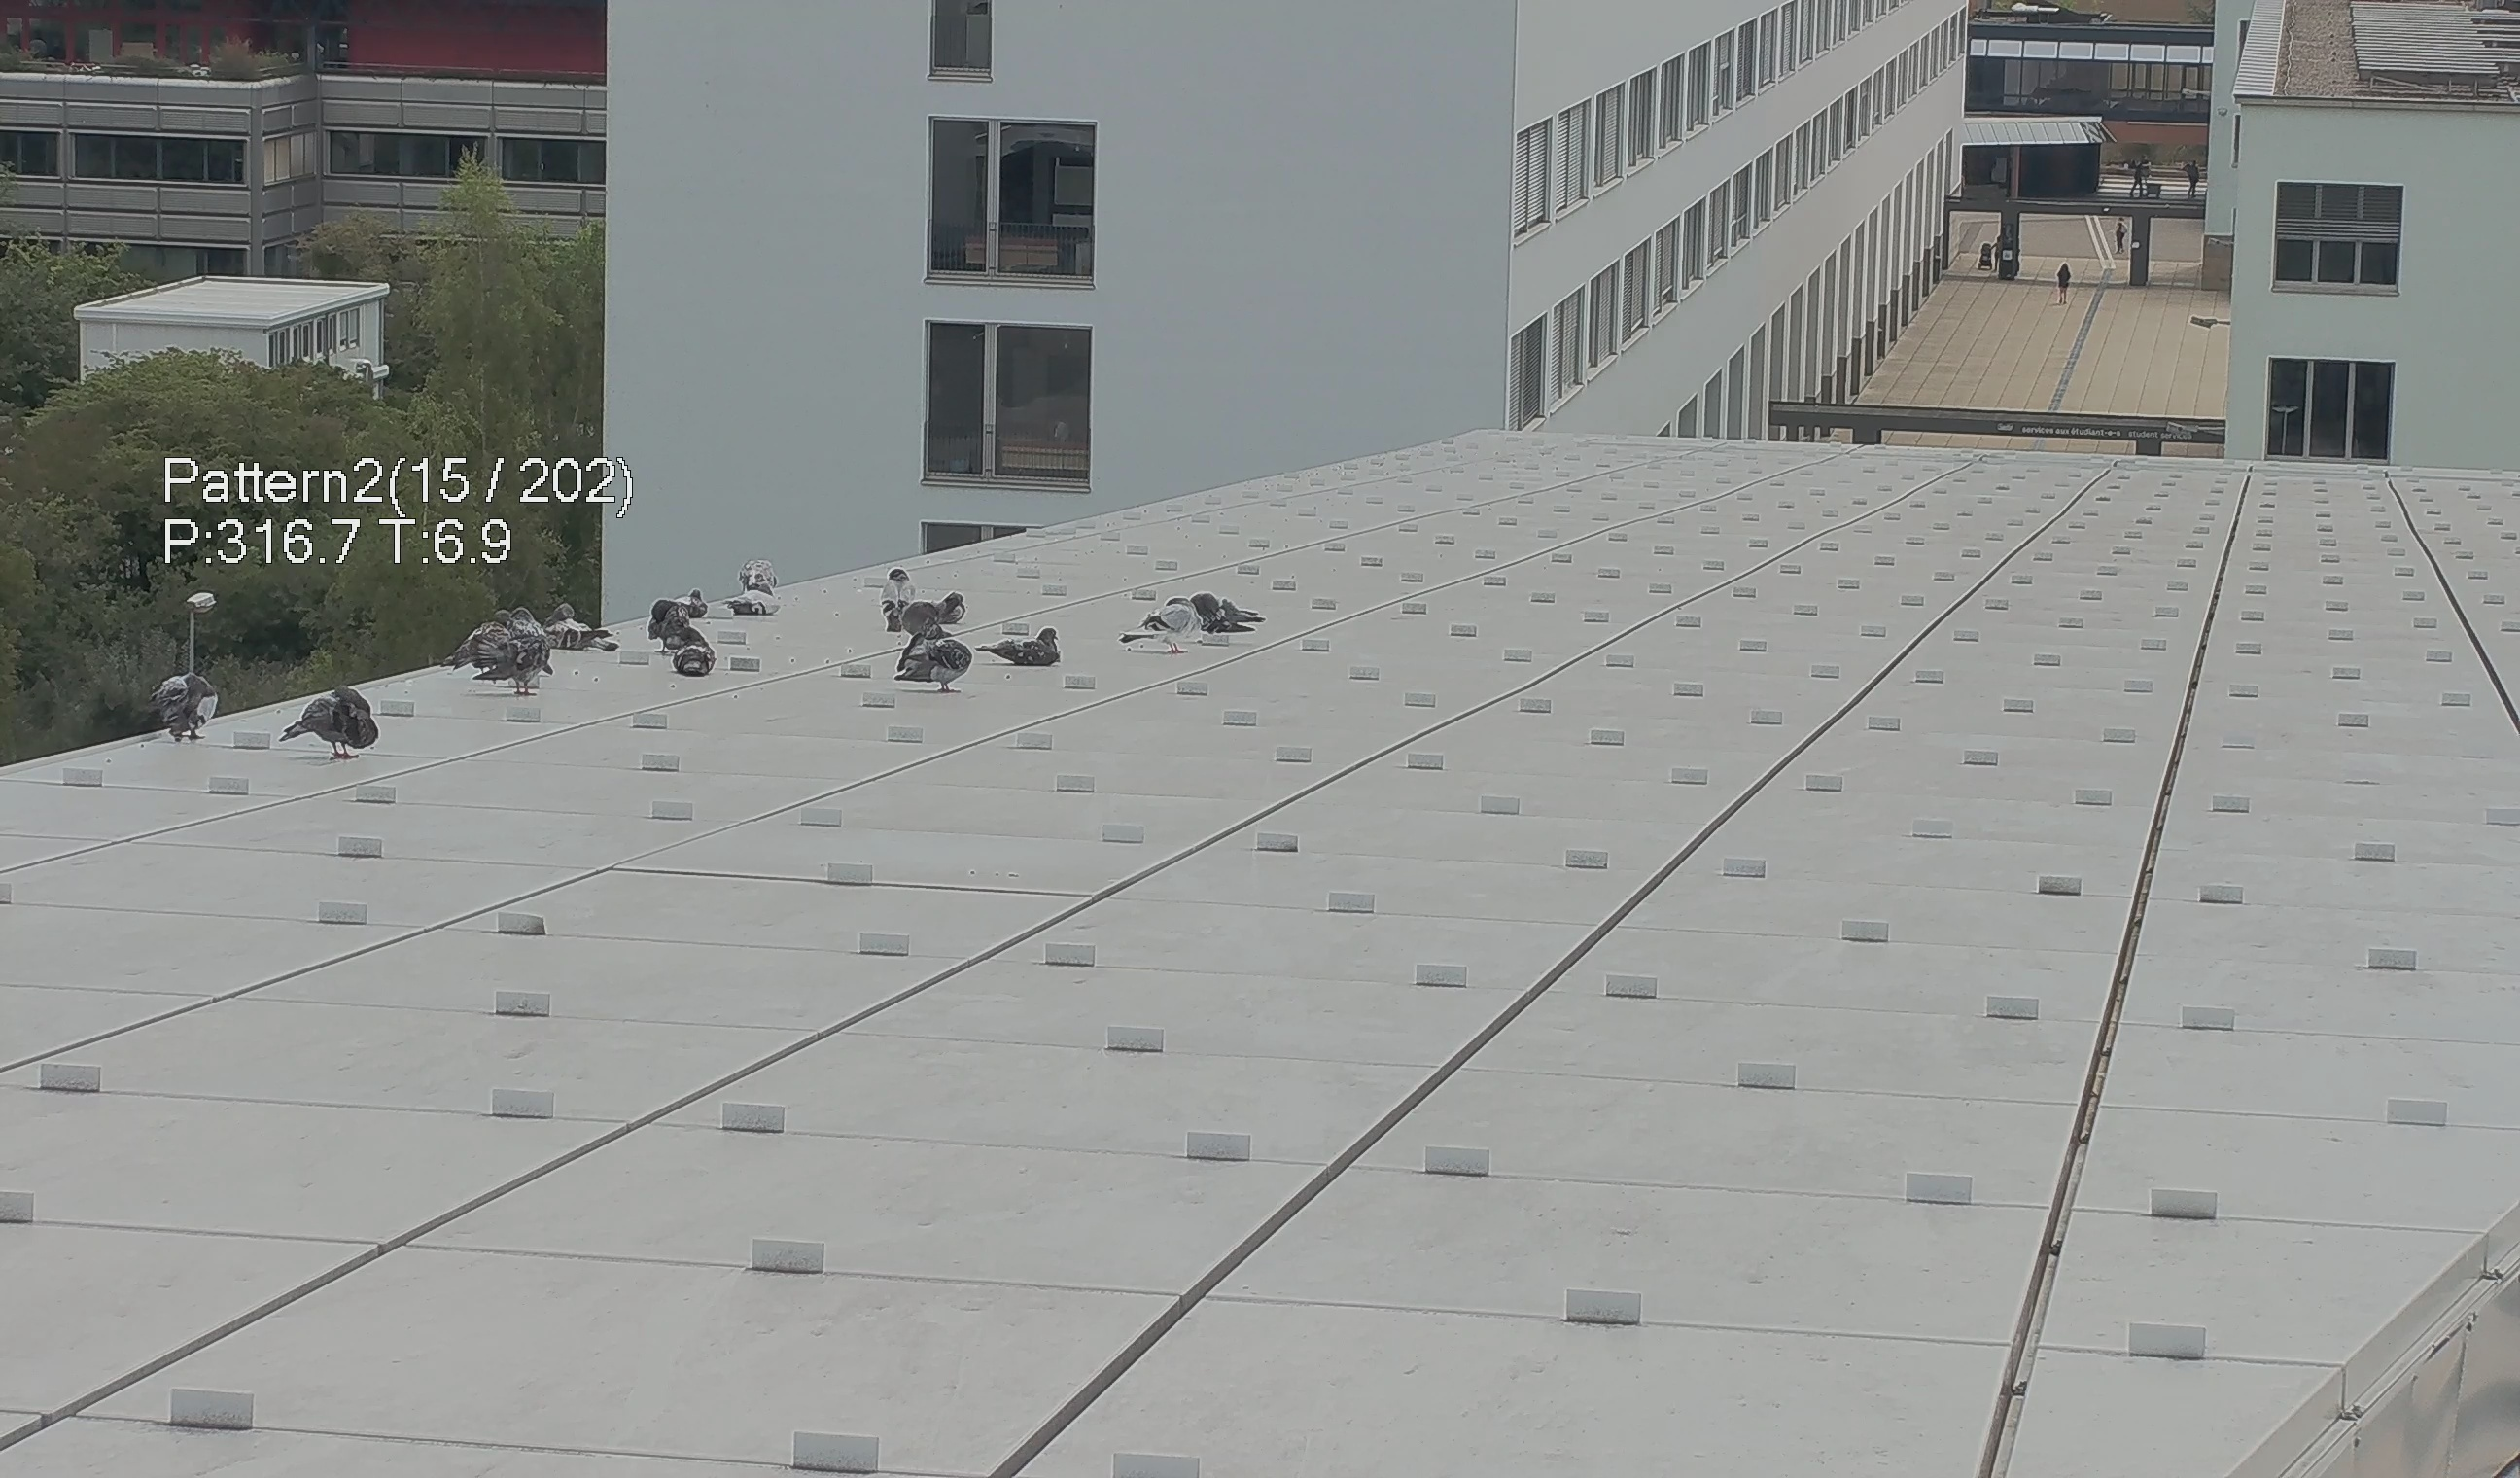Pigeon: (285, 677, 383, 764), (149, 660, 223, 751), (1117, 595, 1208, 660), (494, 607, 554, 690), (974, 623, 1069, 669), (549, 602, 614, 658), (907, 635, 976, 688), (1194, 593, 1268, 635), (443, 602, 491, 667), (668, 623, 721, 677), (874, 567, 916, 628), (723, 586, 791, 621), (739, 556, 777, 602), (672, 582, 716, 618), (930, 588, 964, 625)
